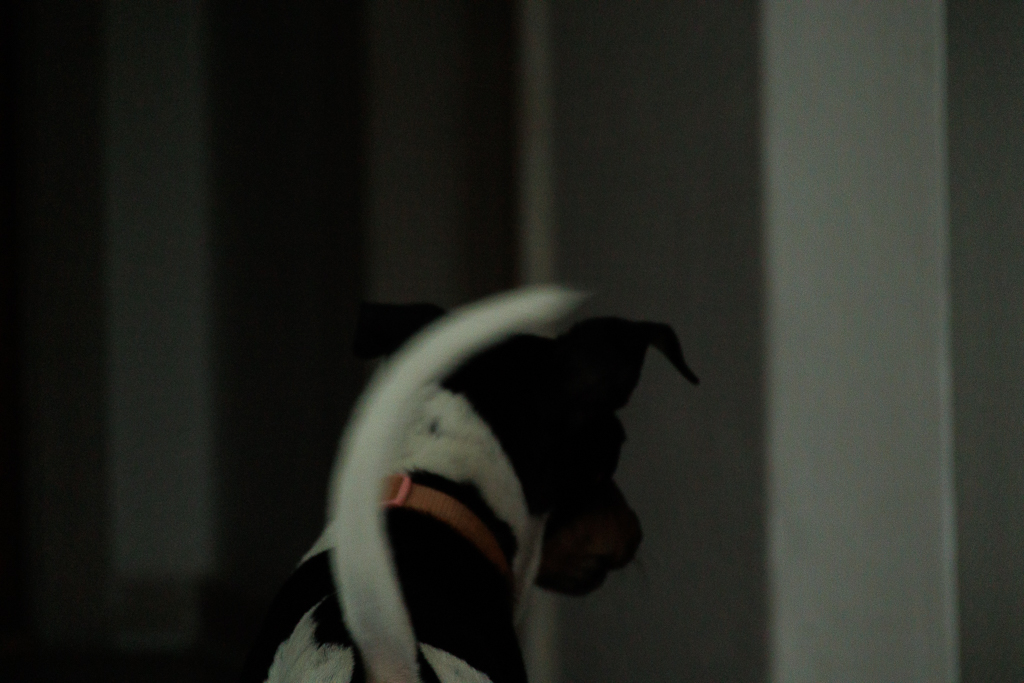Dog: (248, 266, 715, 683)
